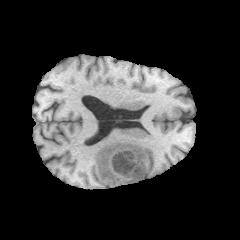glioma: (94, 141, 147, 184)
